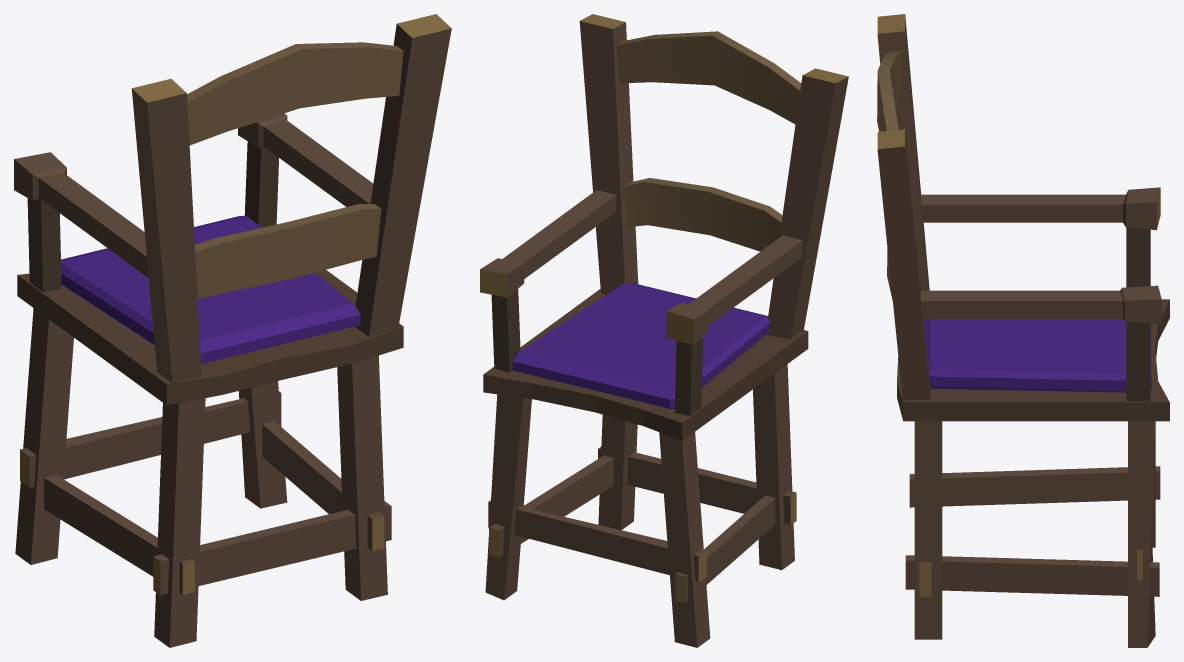
File: Chair_2.fbx
The picture shows the model from 3 angles, left to right: view 1: azimuth 30°, elevation 25°; view 2: azimuth 150°, elevation 25°; view 3: azimuth 270°, elevation 25°; orthographic projection. The views are drawn at different scales.
Visible parts, largest first — view 1: pCube2439; view 2: pCube2439; view 3: pCube2439.
Part boxes in pixels (x1=…): pCube2439: x1=14, y1=14, x2=451, y2=647; pCube2439: x1=480, y1=14, x2=848, y2=647; pCube2439: x1=877, y1=14, x2=1169, y2=647.
Bounding box in the file's own units: 79.57 × 146 × 74.28.
